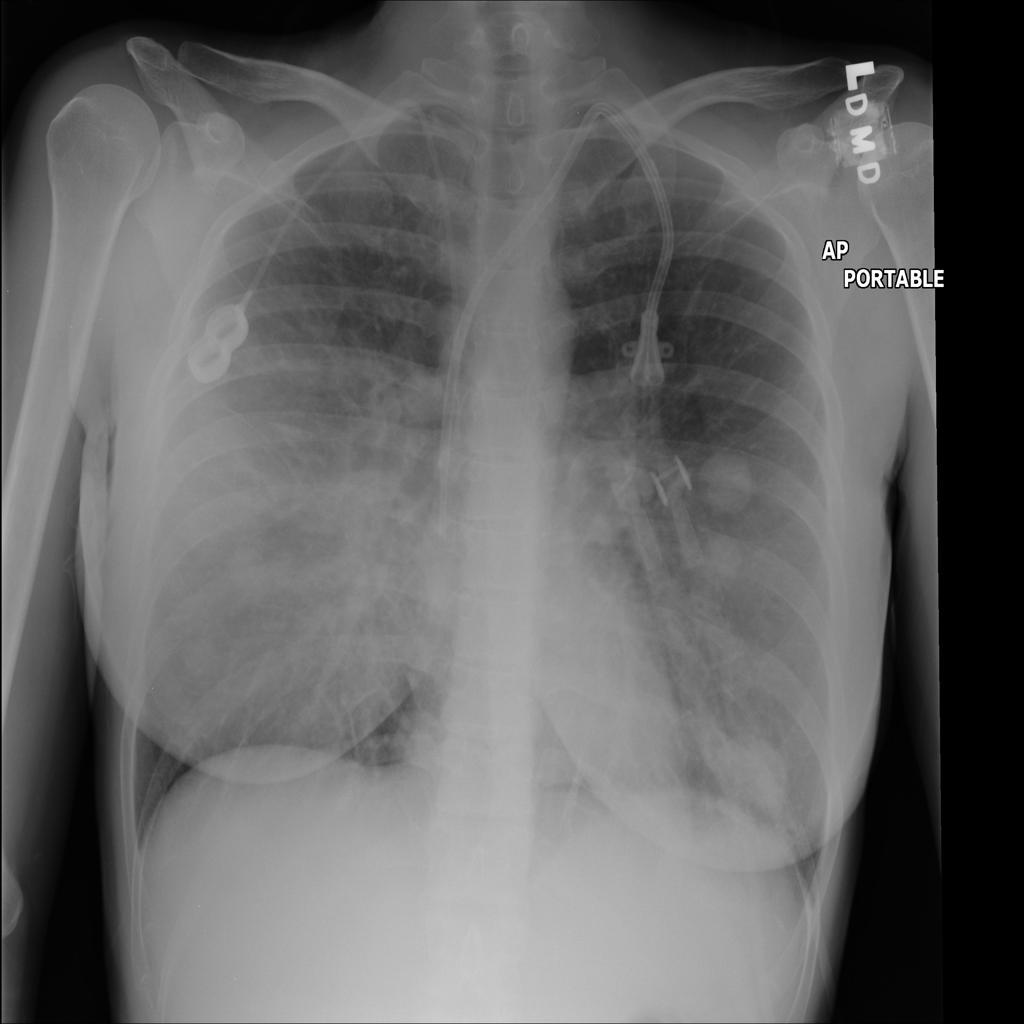nodule: (543, 405, 662, 552), (702, 720, 802, 827), (695, 438, 768, 526), (216, 531, 291, 601), (688, 518, 754, 595), (167, 623, 233, 696)
